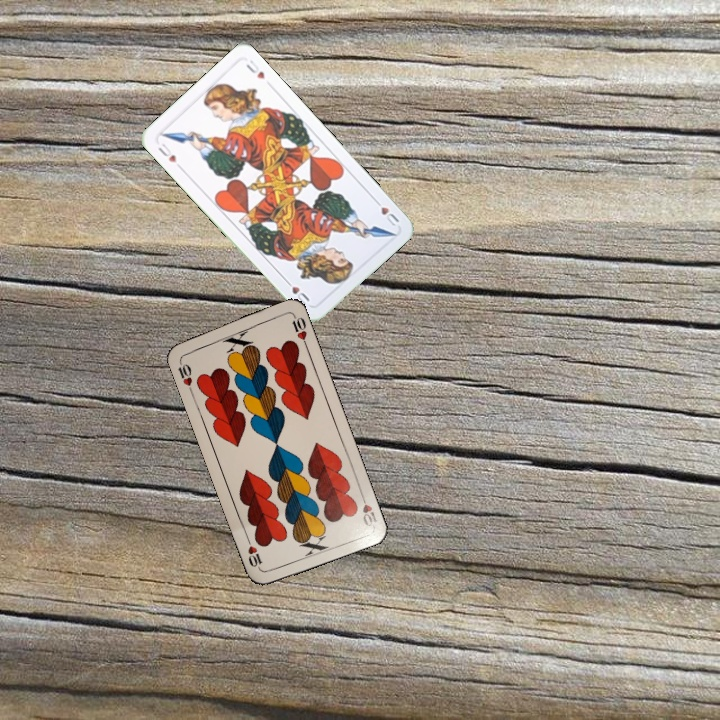H10: (357, 489, 381, 530), (174, 356, 195, 395)
HU: (370, 195, 402, 230), (154, 139, 179, 165)
